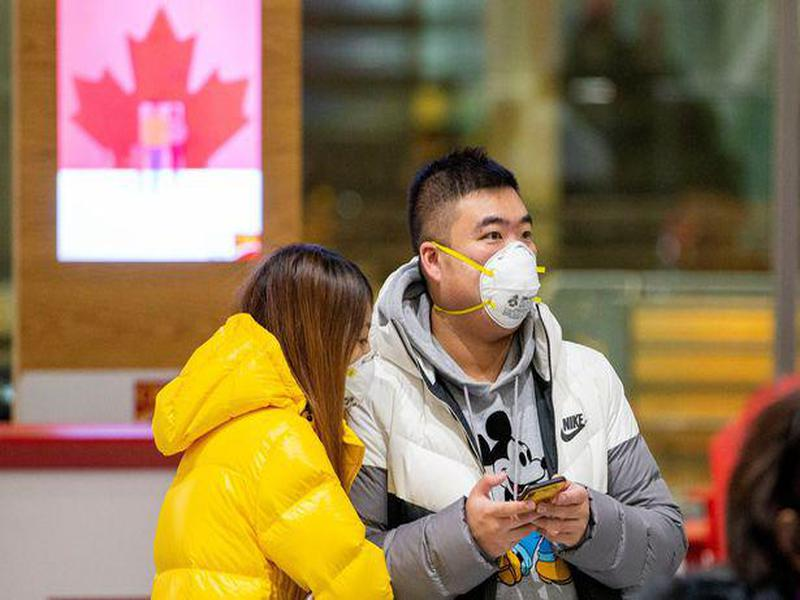with_mask: (408, 150, 538, 341)
